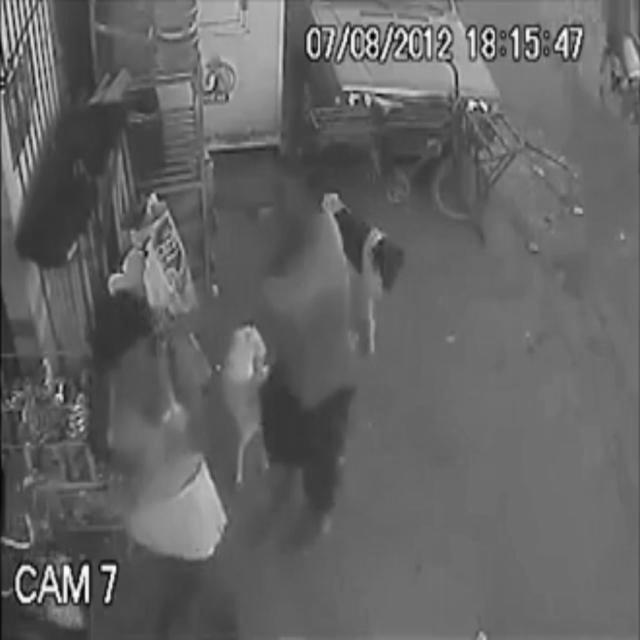weapon: (208, 210, 212, 216)
